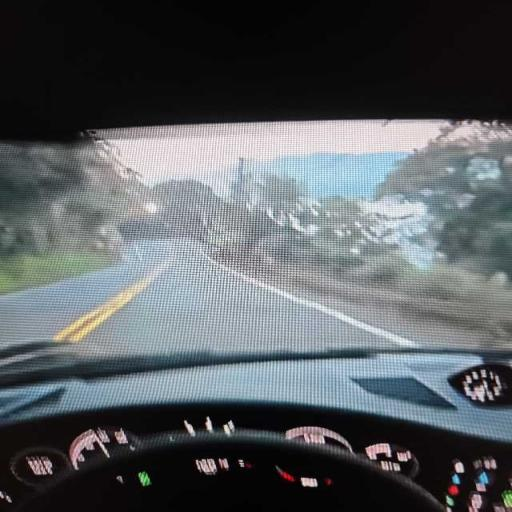car: (0, 121, 511, 511)
lane: (78, 240, 394, 358), (0, 247, 160, 345)
